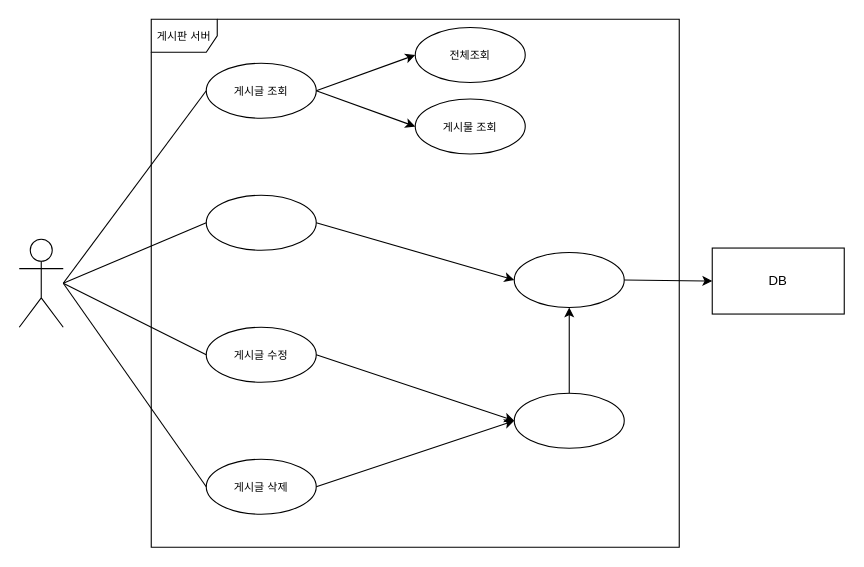
The diagram is 864 pixels wide and 567 high, and some of its shapes have lost their labels. The centre of each missing label's shape, as x and y in pixels:
게시글 작성: the point at 260,222
비밀번호: the point at 568,420
사용자: the point at 40,282
제목/작성자 내용/작성일: the point at 568,279
